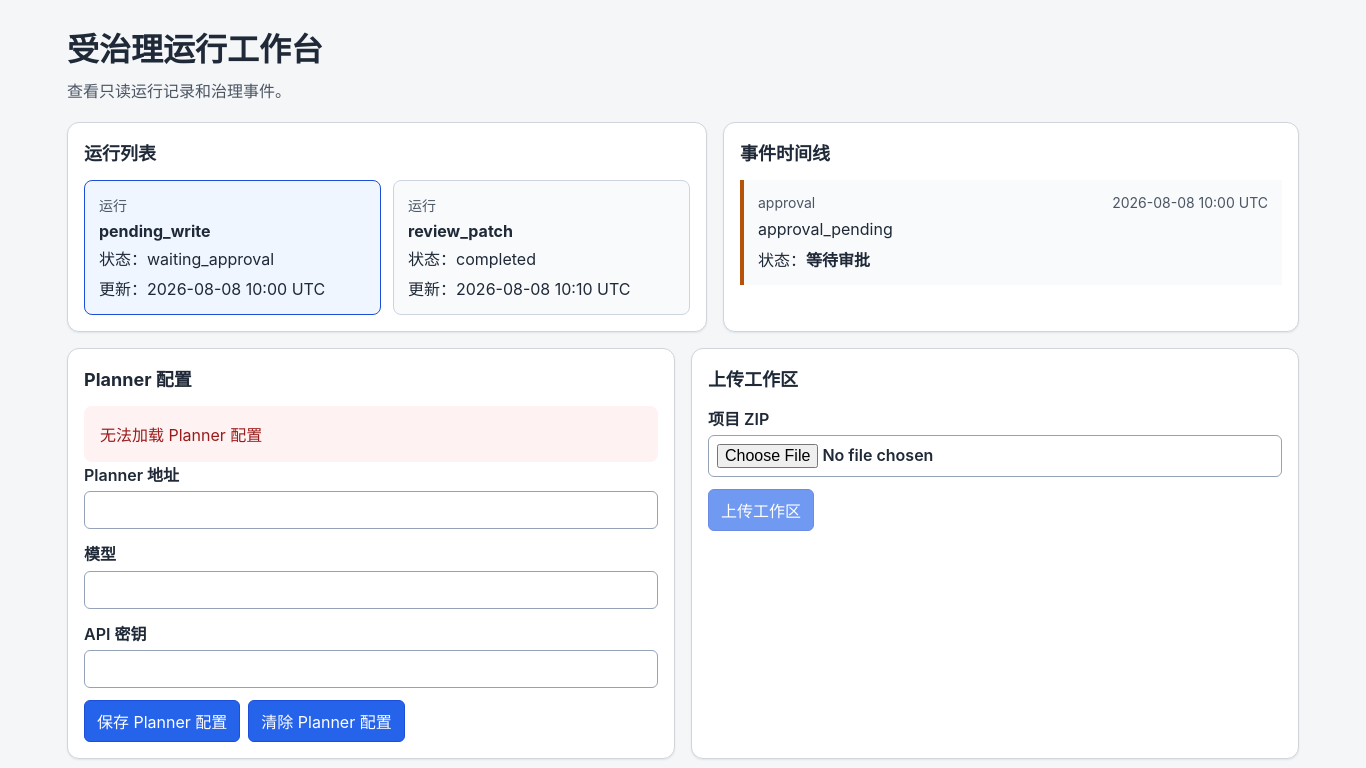
App › selects a run card and shows only its returned event data
Check: the text "approval_pending" is shown, box [758,219,893,239]
Step 1. Click the button "运行 review_patch 状态：completed 更新：2026-08-08 10:10 UTC" → [460, 231], box [393,180,690,315]
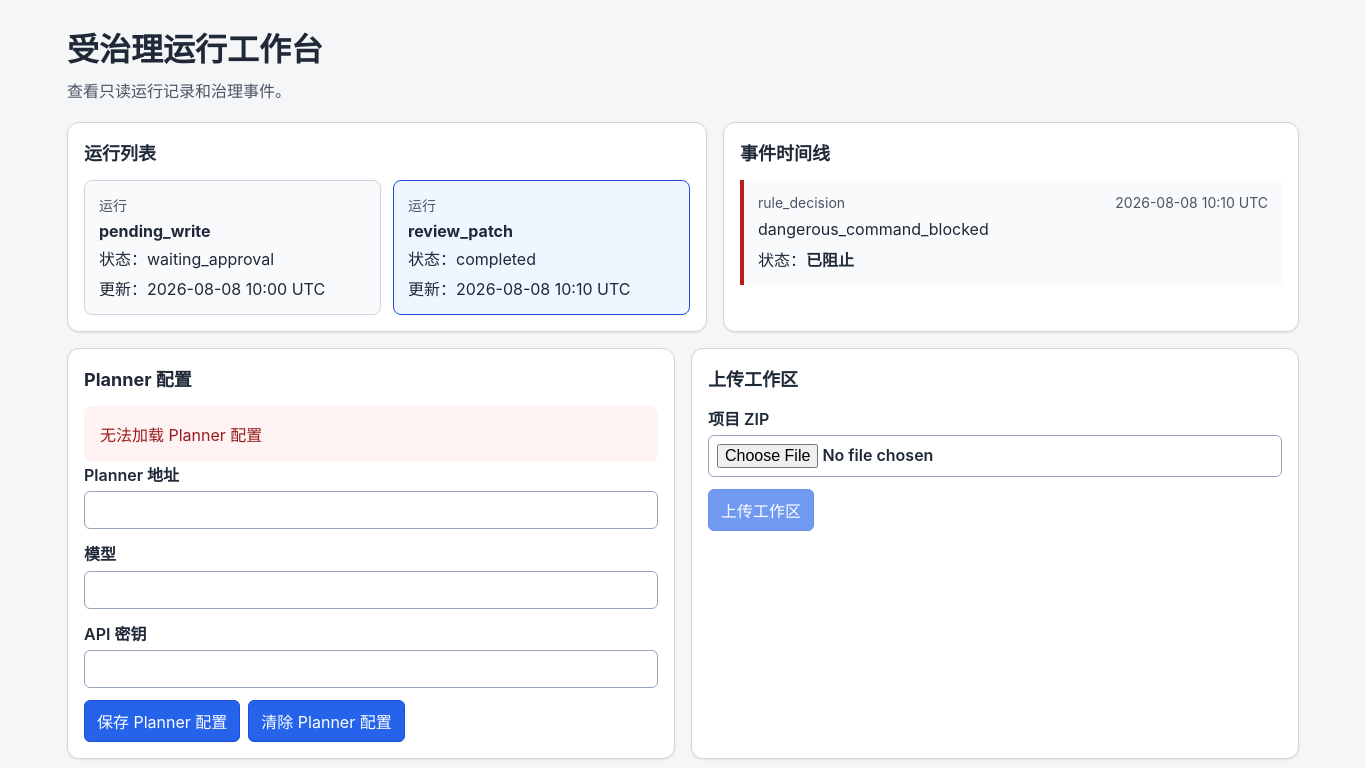
Check: the text "dangerous_command_blocked" is shown, box [758,219,989,239]
Check: the text "approval_pending" is gone
